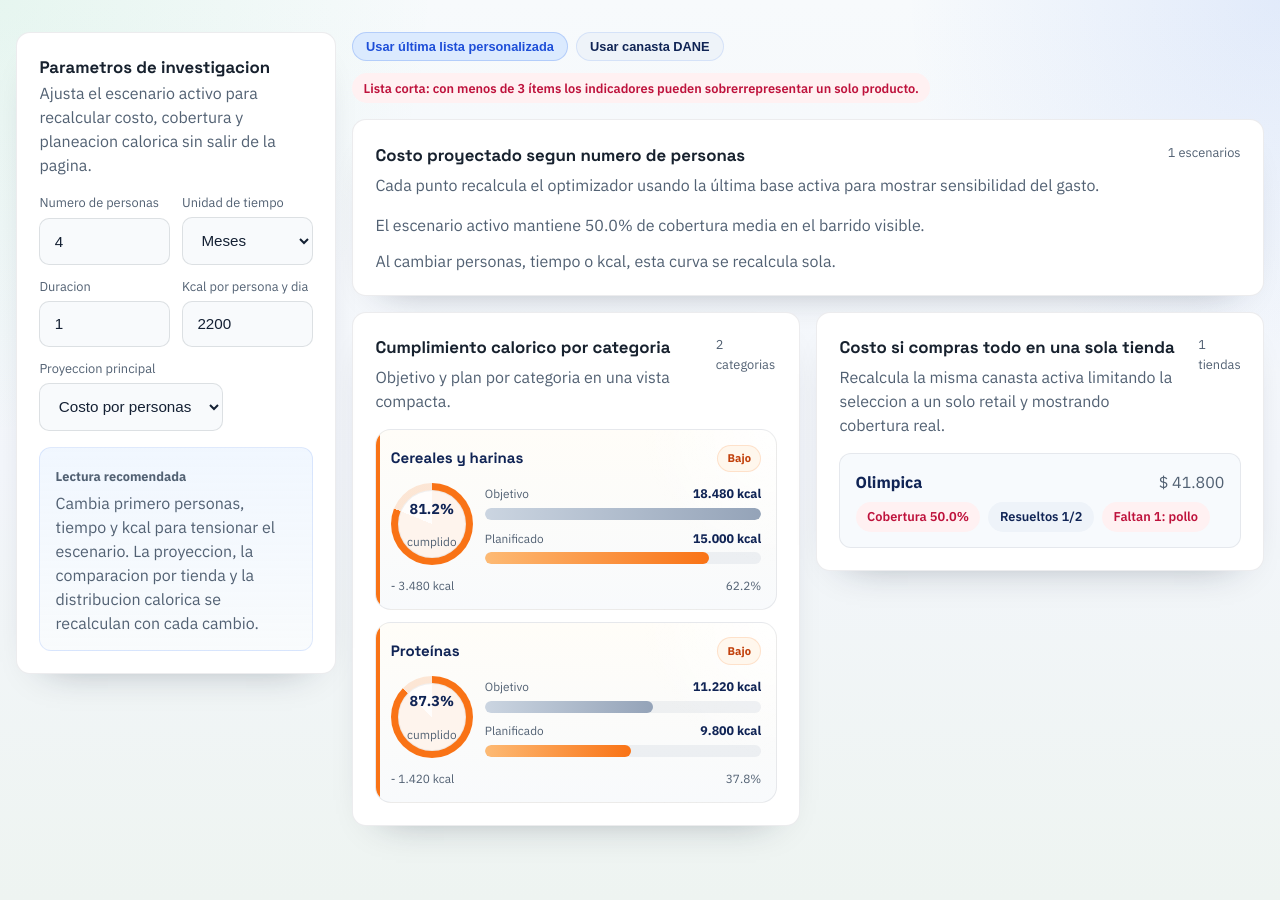
Test: Statistics page › permite cambiar entre lista personalizada y canasta DANE
Check: the text "Lista corta: con menos de 3 ítems los indicadores pueden sobrerrepresentar un solo producto." is shown, box [364,80,919,97]
Check: the text "Olimpica" is shown, box [856,470,922,494]
Click the button "Usar canasta DANE" at (650, 47), box [576,32,724,61]
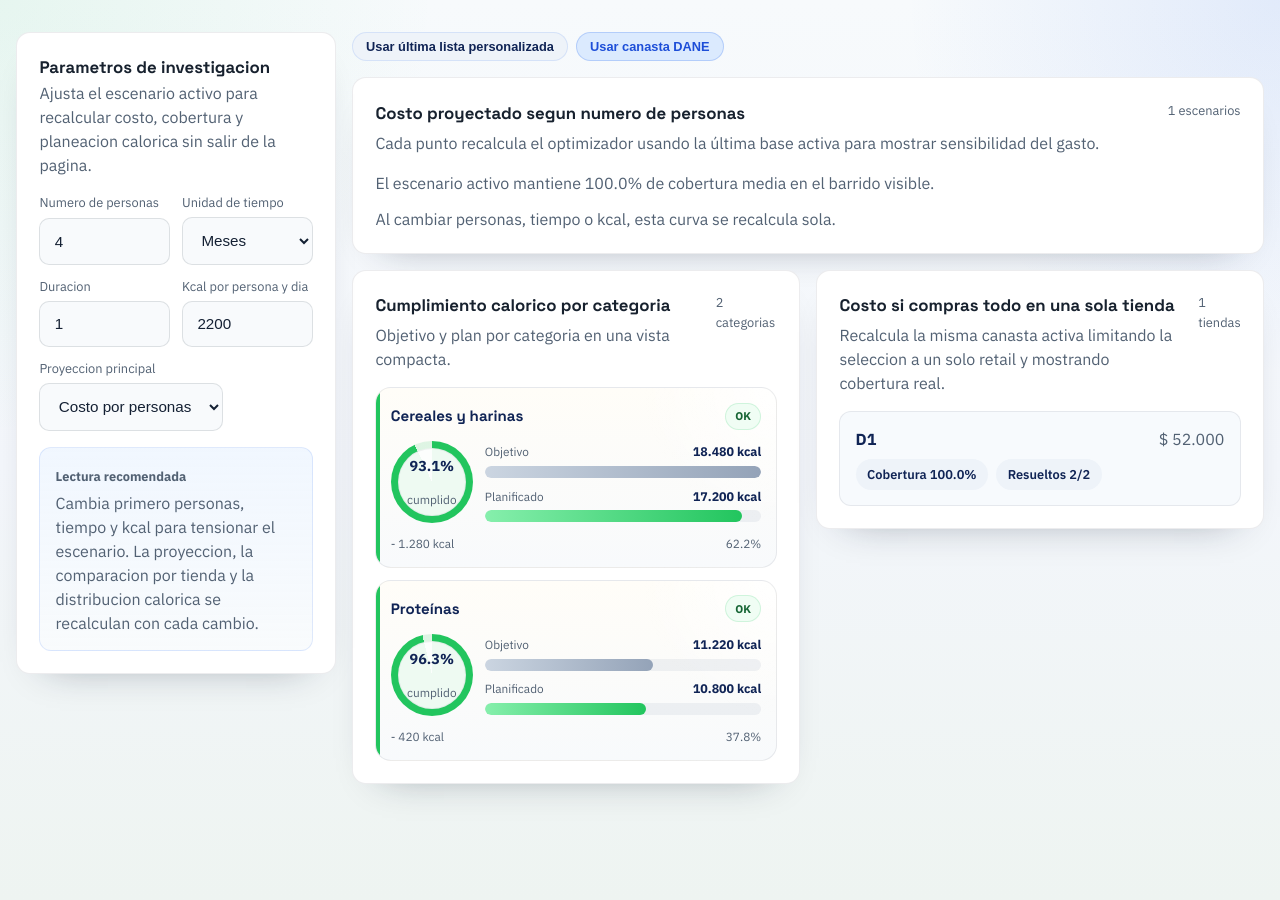
Check: the text "D1" is shown, box [856,428,876,452]
Check: the text "Olimpica" is gone
Check: the text "Lista corta: con menos de 3 ítems los indicadores pueden sobrerrepresentar un solo producto." is gone
Click the button "Usar última lista personalizada" at (460, 47), box [352,32,568,61]
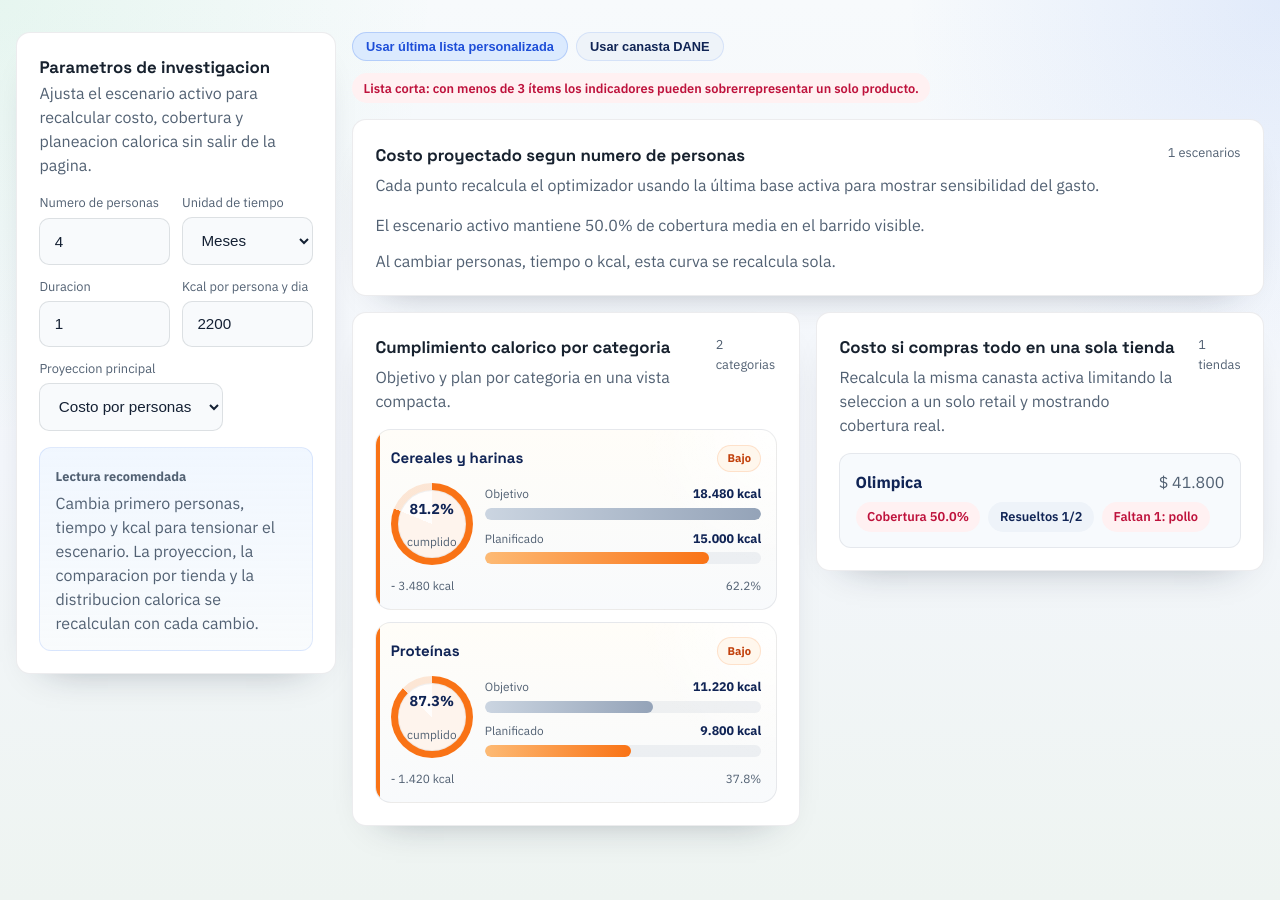
Check: the text "Olimpica" is shown, box [856,470,922,494]
Check: the text "Lista corta: con menos de 3 ítems los indicadores pueden sobrerrepresentar un solo producto." is shown, box [364,80,919,97]
